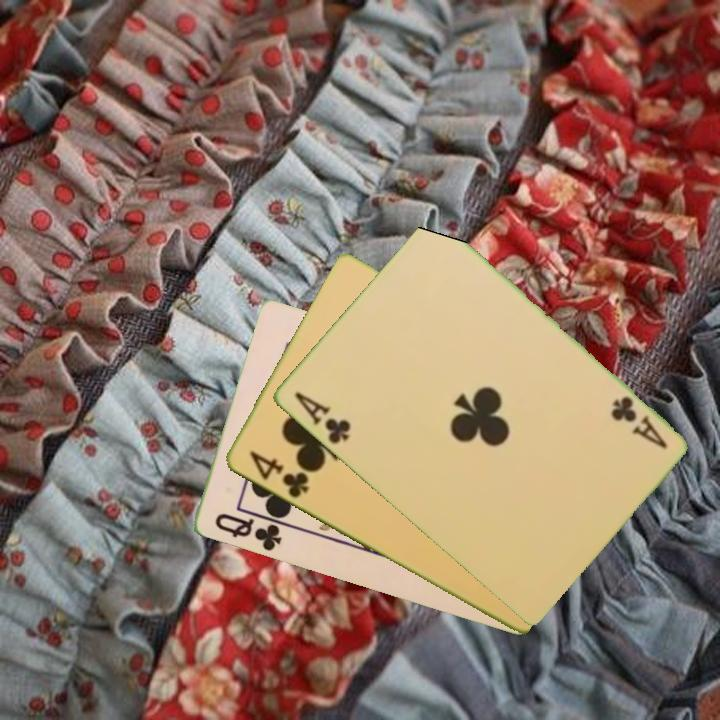4c: (245, 447, 312, 501)
Ac: (606, 392, 670, 452), (290, 388, 353, 447)
Qc: (210, 510, 284, 555)
